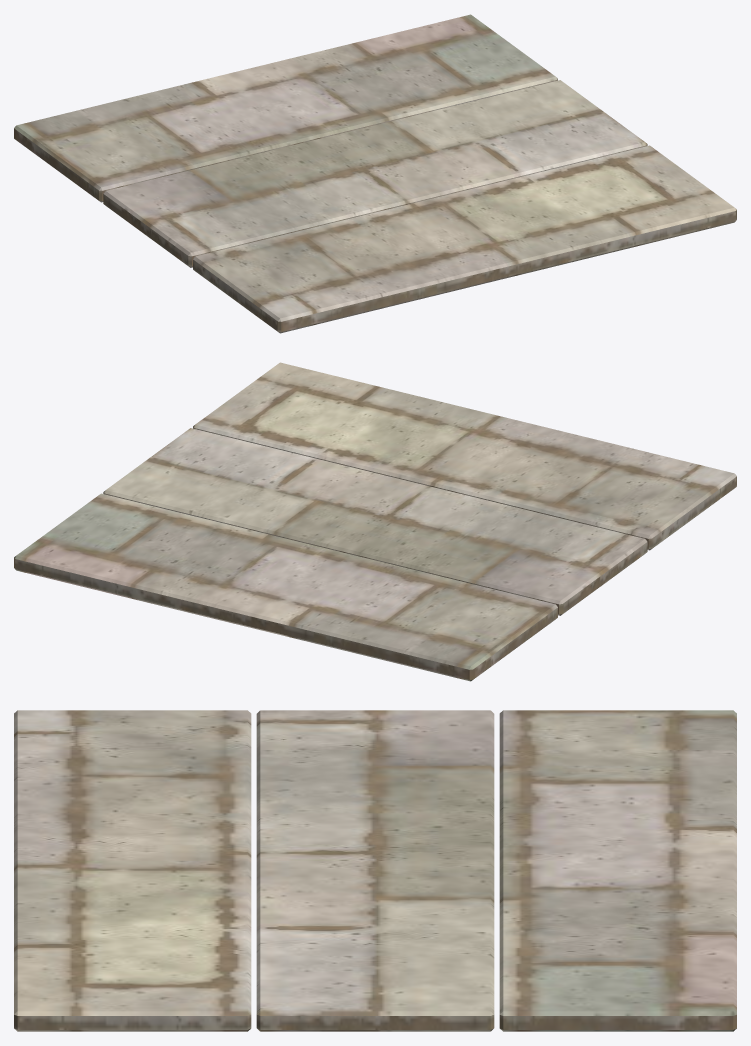
The model's file is path_slab.glb.
3 renders of one model, top to bottom at view 1: azimuth 30°, elevation 25°; view 2: azimuth 150°, elevation 25°; view 3: azimuth 270°, elevation 25°, orthographic. The views are drawn at different scales.
Visible parts, largest first — view 1: path_slab_stone2; view 2: path_slab_stone2; view 3: path_slab_stone2.
Part boxes in pixels (<box>): path_slab_stone2: <box>14,14,736,333</box>; path_slab_stone2: <box>14,362,736,681</box>; path_slab_stone2: <box>14,710,736,1031</box>.
Size of the model in its own units: 1.6 by 0.05 by 1.61.
Materials: 1 (1 with a texture image).
